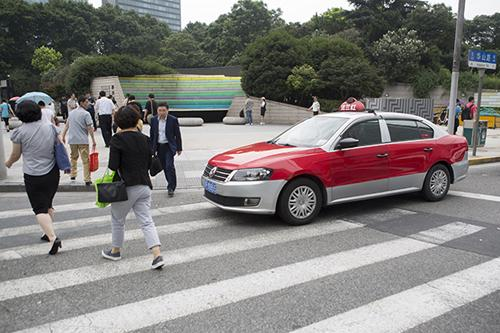car: (200, 110, 471, 224)
person: (98, 105, 164, 268), (3, 100, 72, 255), (61, 96, 98, 188), (147, 103, 183, 196), (94, 90, 115, 147), (451, 99, 463, 135), (463, 96, 477, 120), (243, 96, 254, 126), (306, 95, 321, 116), (260, 97, 267, 118)
sign: (463, 48, 500, 72)
